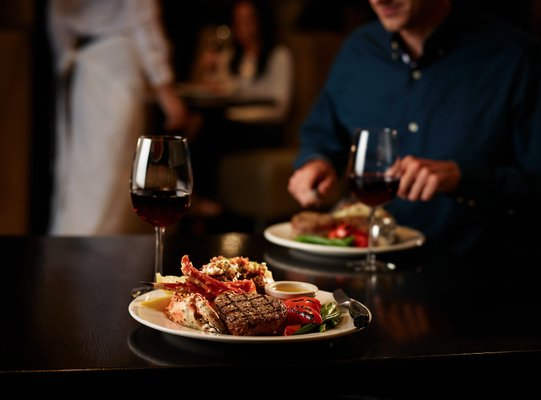curry: (5, 132, 538, 392), (3, 230, 522, 393)
pasta: (216, 144, 301, 224)
sandwich: (129, 132, 195, 282), (348, 127, 402, 248)
